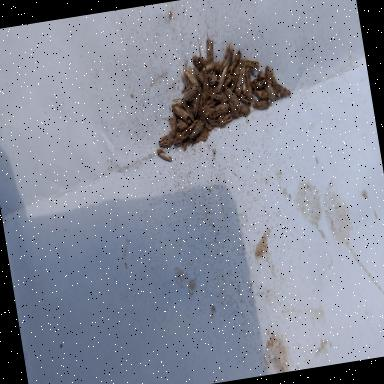pbw: (254, 68, 276, 102), (212, 61, 234, 92), (218, 40, 237, 70), (224, 64, 244, 92), (188, 87, 206, 117), (201, 30, 216, 66), (250, 78, 269, 103), (170, 101, 190, 124), (270, 80, 292, 100), (226, 50, 244, 74), (198, 63, 211, 94), (180, 98, 195, 123), (208, 102, 230, 119), (192, 53, 212, 71), (188, 120, 206, 139), (243, 67, 254, 98), (156, 131, 176, 148), (184, 66, 199, 88), (251, 97, 273, 112), (180, 120, 200, 136), (240, 56, 260, 72), (202, 100, 218, 119), (250, 76, 270, 91), (210, 88, 228, 104), (225, 84, 238, 106), (264, 65, 277, 86), (156, 146, 172, 163), (240, 80, 252, 102), (192, 65, 205, 85), (216, 112, 234, 126), (201, 59, 220, 72), (198, 106, 209, 128), (169, 113, 179, 136), (182, 86, 198, 100), (237, 102, 251, 118), (239, 91, 253, 107), (174, 117, 191, 130), (228, 99, 239, 119), (206, 116, 220, 128)
